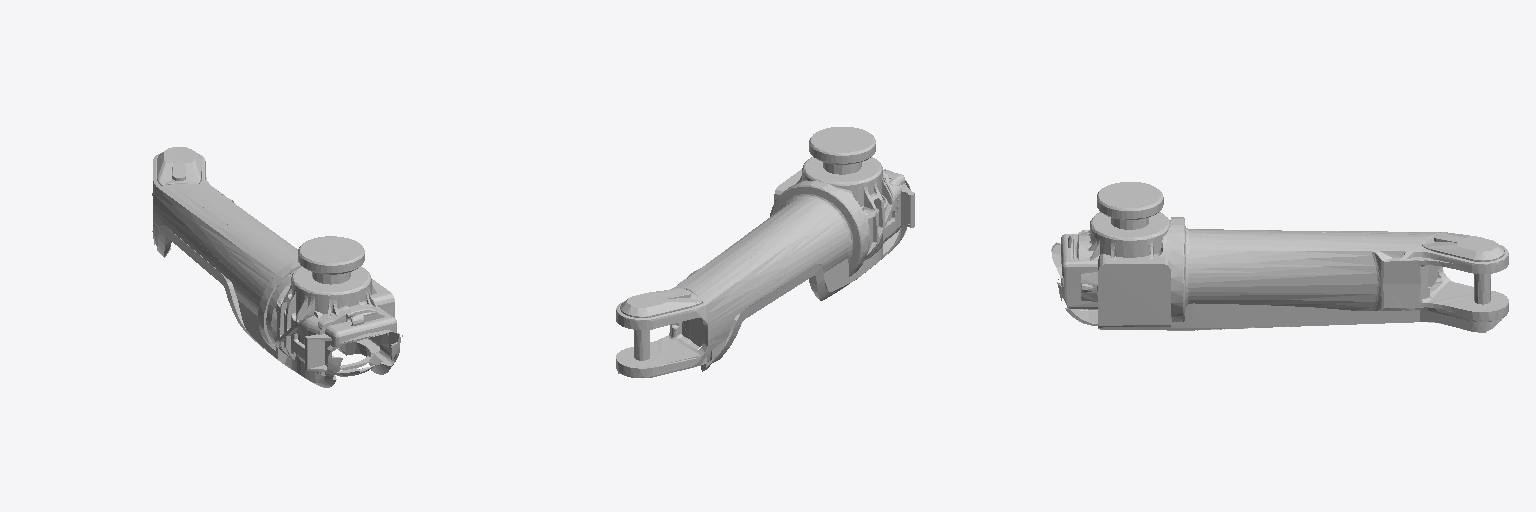
File: rear_right_upper_leg_1.obj
3 renders of one model, left to right at view 1: azimuth 30°, elevation 25°; view 2: azimuth 150°, elevation 25°; view 3: azimuth 270°, elevation 25°, orthographic.
Bounding box in the file's own units: 0.1011 × 0.1229 × 0.4163.